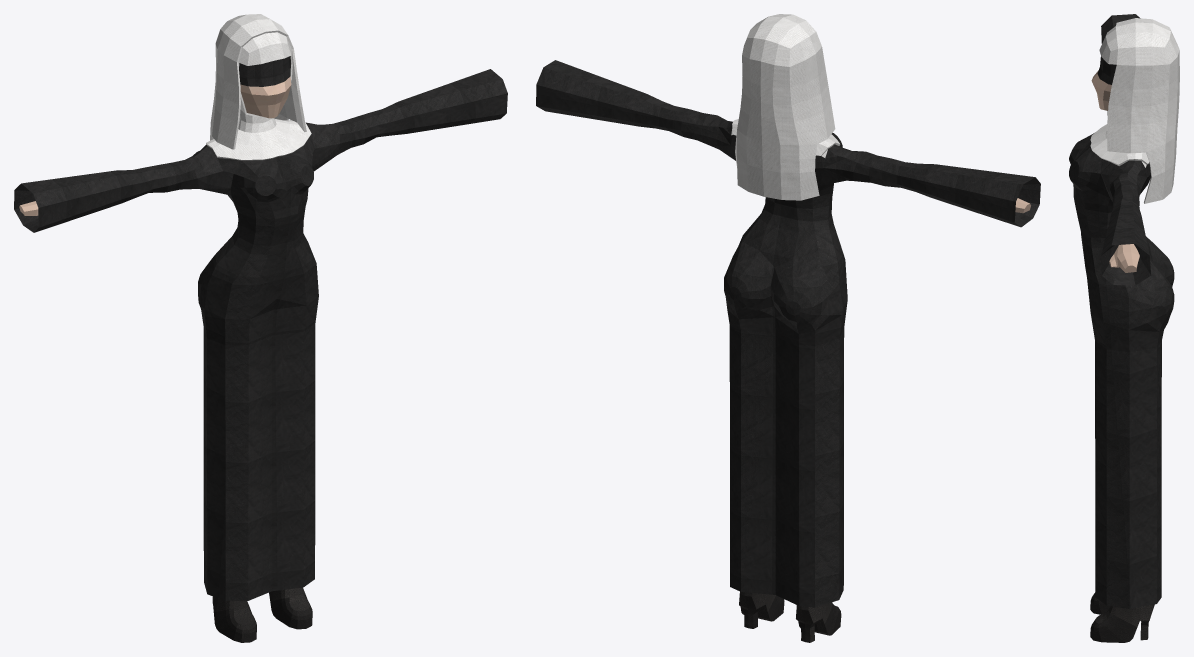
The model's file is Monja.fbx.
3 views of the same model, side by side, from view 1: azimuth 30°, elevation 25°; view 2: azimuth 150°, elevation 25°; view 3: azimuth 270°, elevation 25° (orthographic). The views are drawn at different scales.
Visible parts, largest first — view 1: monja.003; view 2: monja.003; view 3: monja.003.
Boxes of the visible parts, <box> form: monja.003: <box>14,14,507,642</box>; monja.003: <box>536,14,1040,642</box>; monja.003: <box>1069,14,1179,642</box>.
Size of the model in its own units: 166 by 200 by 33.47.
Materials: 4 (4 with a texture image).
